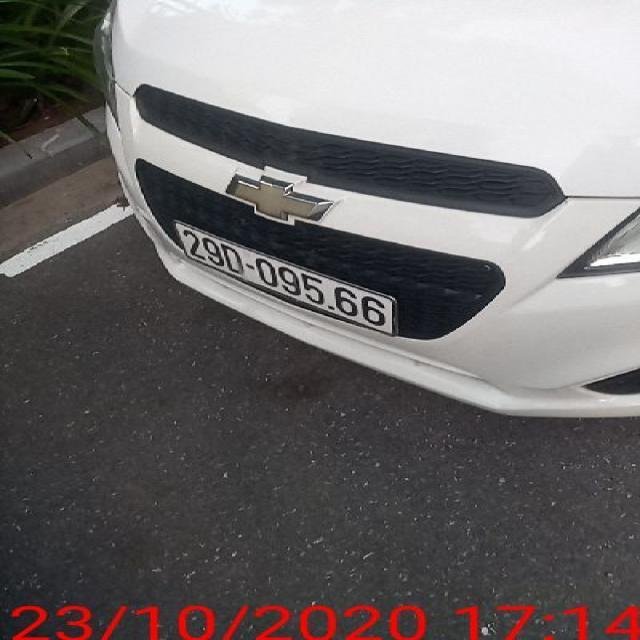bien_so_oto: (170, 216, 400, 339)
